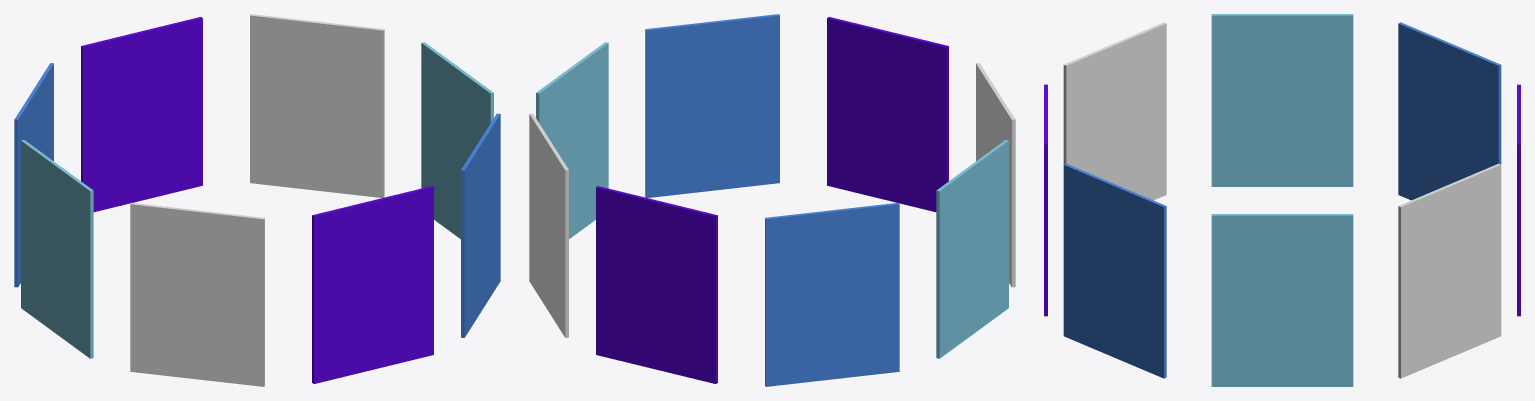
File: gallery360.glb
The picture shows the model from 3 angles, left to right: view 1: azimuth 30°, elevation 25°; view 2: azimuth 150°, elevation 25°; view 3: azimuth 270°, elevation 25°; orthographic projection. The views are drawn at different scales.
Parts seen in each view (by area): view 1: Cube.003, Cube, Cube.002, Cube.001; view 2: Cube.001, Cube, Cube.002, Cube.003; view 3: Cube.002, Cube.001, Cube.003, Cube.
Boxes of the visible parts, x1,y1,x2,y2 form: Cube.003: [130, 14, 384, 386]; Cube: [81, 17, 433, 383]; Cube.002: [21, 42, 493, 358]; Cube.001: [14, 63, 500, 337]; Cube.001: [645, 14, 899, 386]; Cube: [596, 17, 948, 383]; Cube.002: [536, 42, 1008, 358]; Cube.003: [529, 63, 1015, 337]; Cube.002: [1211, 14, 1353, 386]; Cube.001: [1063, 22, 1501, 378]; Cube.003: [1063, 22, 1501, 378]; Cube: [1044, 84, 1520, 316].
Bounding box in the file's own units: 2.31 × 0.9164 × 2.31.
